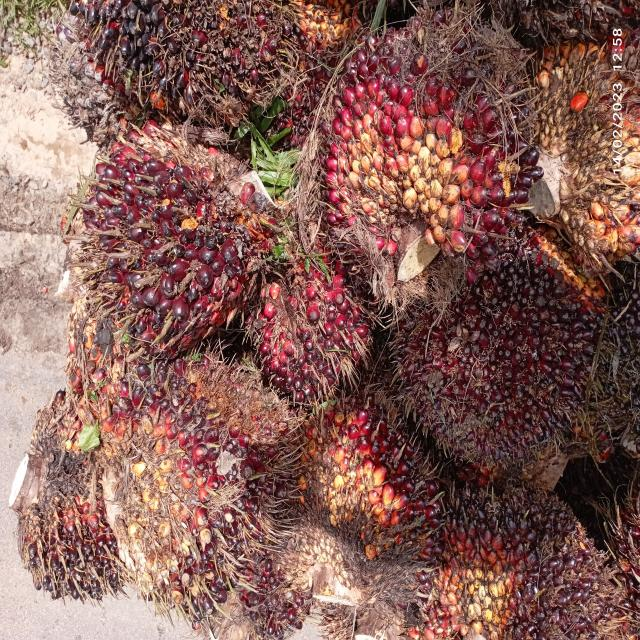fraksi 00: (395, 205, 600, 497), (412, 439, 607, 640)
fraksi 1: (83, 312, 296, 640), (60, 96, 276, 356), (264, 357, 440, 610), (237, 192, 387, 438)
fraksi 3: (314, 0, 528, 293)
